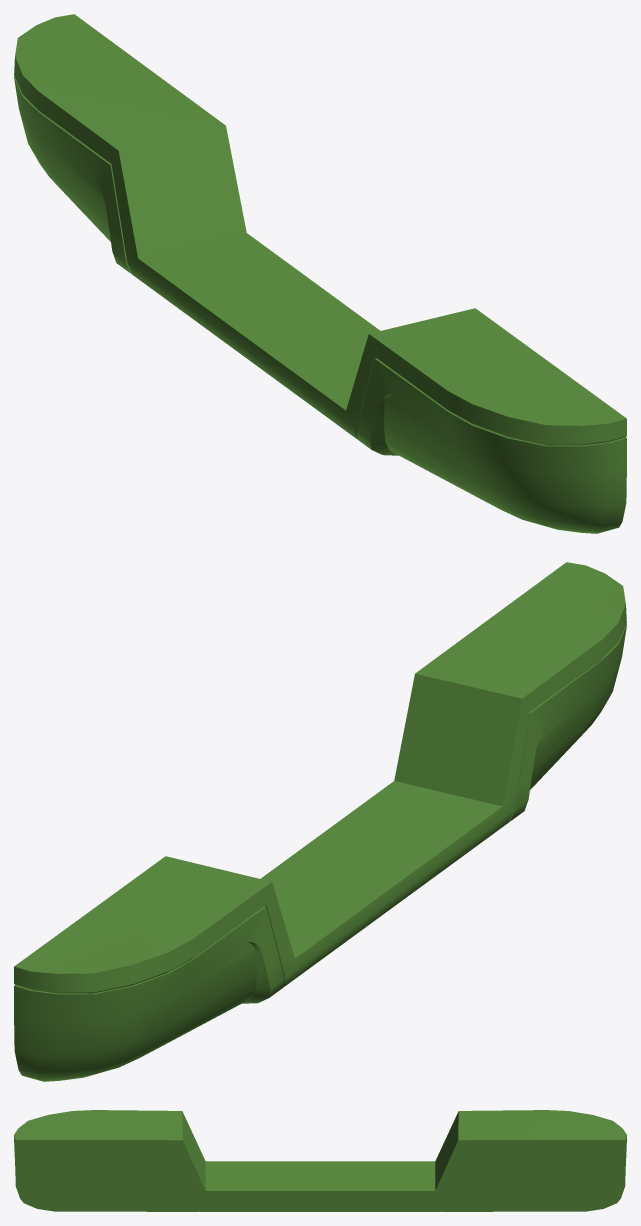
The model's file is rear_bumper.fbx.
3 views of the same model, one above another, from view 1: azimuth 30°, elevation 25°; view 2: azimuth 150°, elevation 25°; view 3: azimuth 270°, elevation 25° (orthographic). The views are drawn at different scales.
Parts seen in each view (by area): view 1: PTN_4X4_GB_14_001.002; view 2: PTN_4X4_GB_14_001.002; view 3: PTN_4X4_GB_14_001.002.
Boxes of the visible parts, <box> form: PTN_4X4_GB_14_001.002: <box>14,14,626,533</box>; PTN_4X4_GB_14_001.002: <box>14,562,626,1081</box>; PTN_4X4_GB_14_001.002: <box>14,1110,626,1211</box>.
Bounding box in the file's own units: 19.72 × 22.81 × 173.
